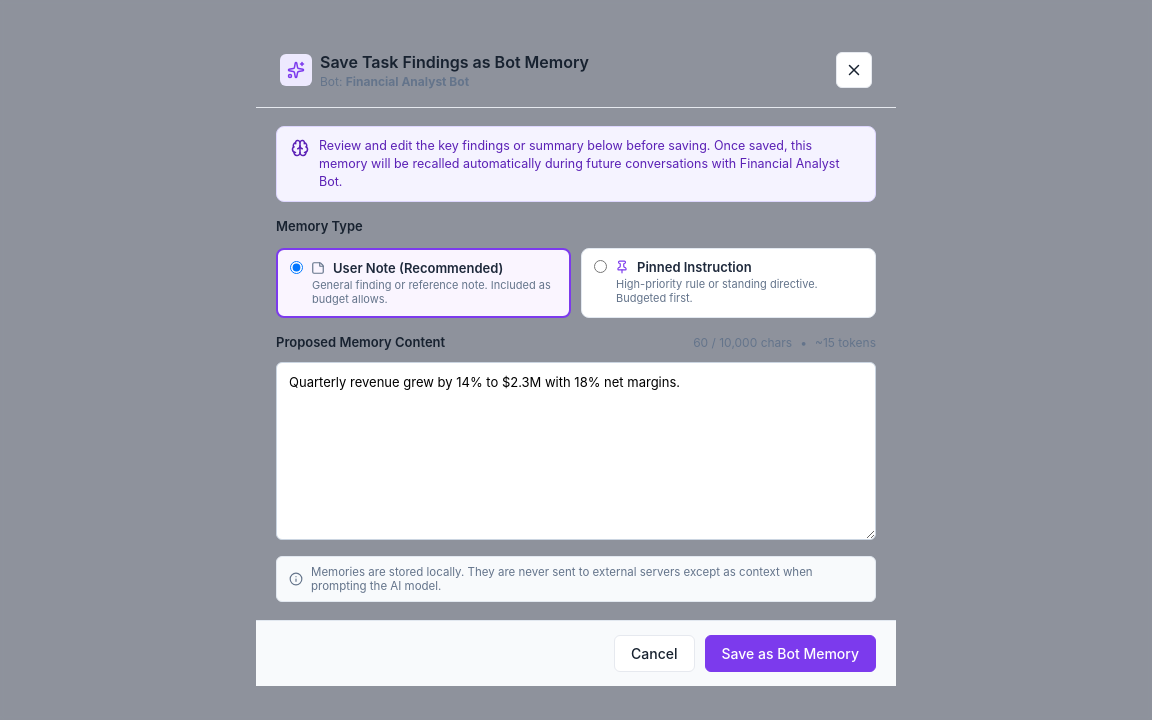
Test: Renderer: TaskSummaryMemoryProposalModal (Phase 9 Step 9.3 Task Summary Workflow) › 5. allows selecting Pinned Instruction or User Note
Check: the radio button with test id "input-summary-type-note" is checked, box [290,261,303,274]
Note: Select pinned instruction
Click the radio button with test id "input-summary-type-pinned" at (600,267), box [594,260,607,273]
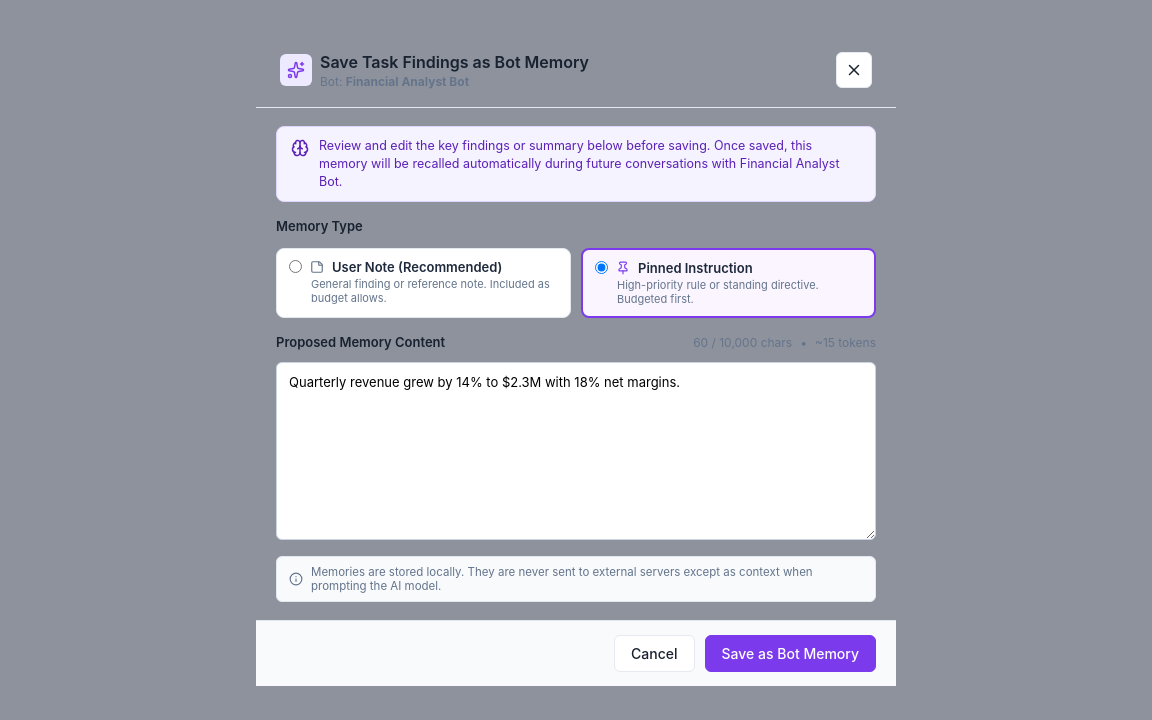
Check: the radio button with test id "input-summary-type-pinned" is checked, box [595,261,608,274]
Check: the radio button with test id "input-summary-type-note" is not checked, box [289,260,302,273]
